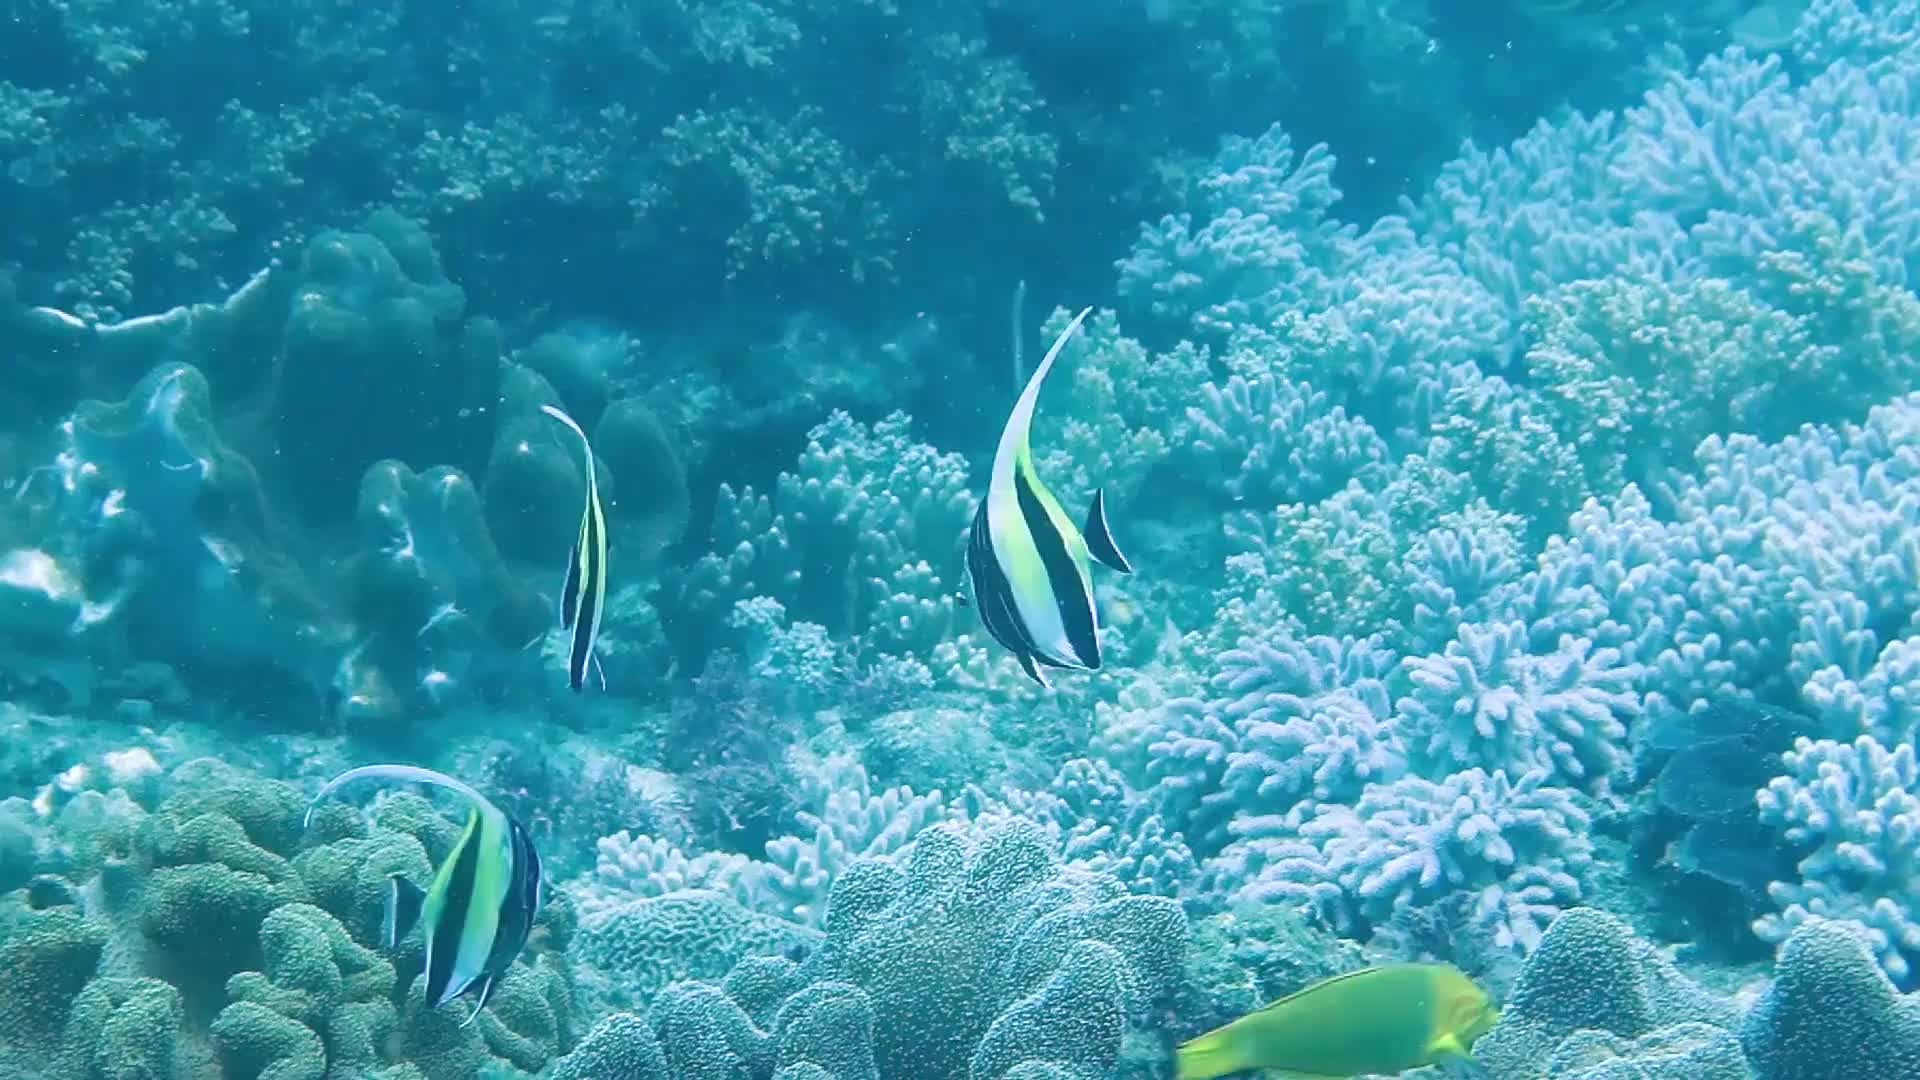Zanclus cornutus: (866, 400, 1154, 684), (365, 752, 570, 1011), (531, 447, 641, 708)
